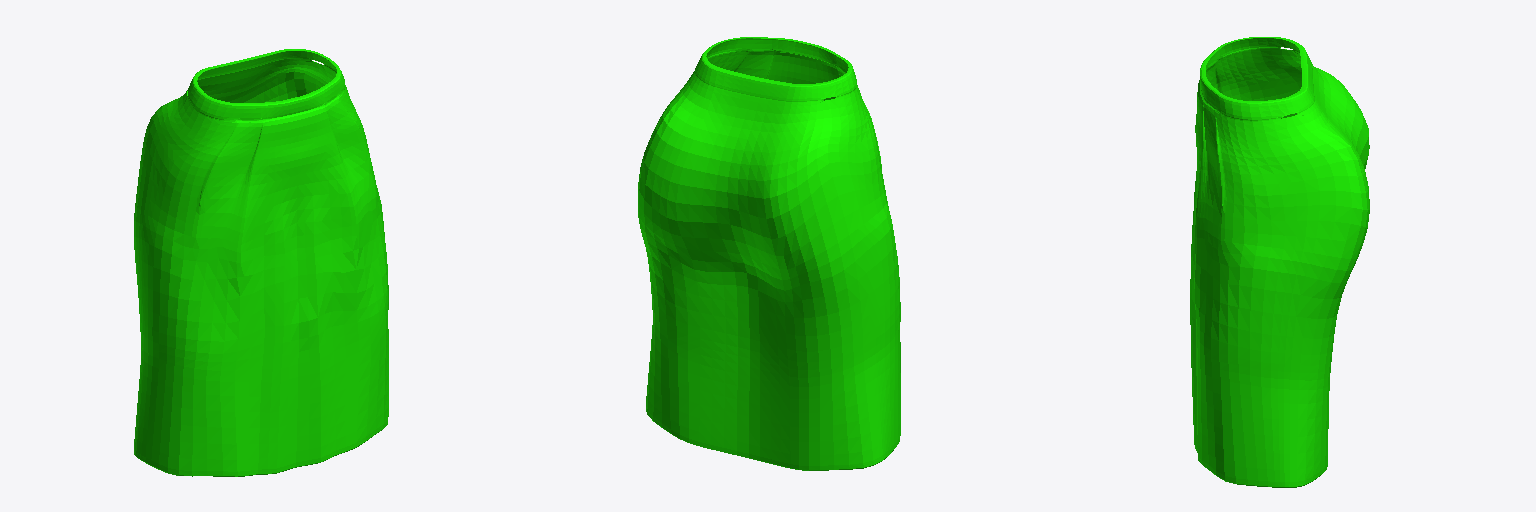
The model's file is baotunqun3.obj.
3 renders of one model, left to right at view 1: azimuth 30°, elevation 25°; view 2: azimuth 150°, elevation 25°; view 3: azimuth 270°, elevation 25°, orthographic.
Visible parts, largest first — view 1: file; view 2: file; view 3: file.
Part boxes in pixels (left/top/right/bottom): file: left=134, top=49, right=388, bottom=476; file: left=638, top=37, right=900, bottom=470; file: left=1190, top=37, right=1369, bottom=487.
Size of the model in its own units: 3.92 by 6.02 by 2.6.